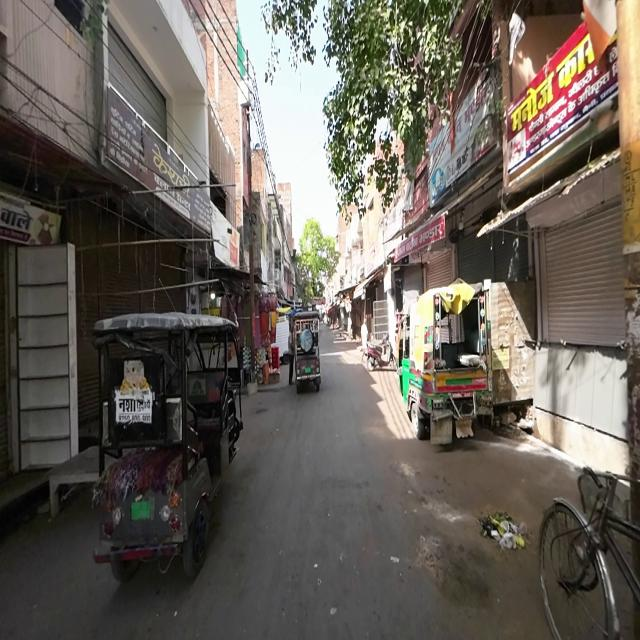Garbage: (480, 511, 529, 550)
